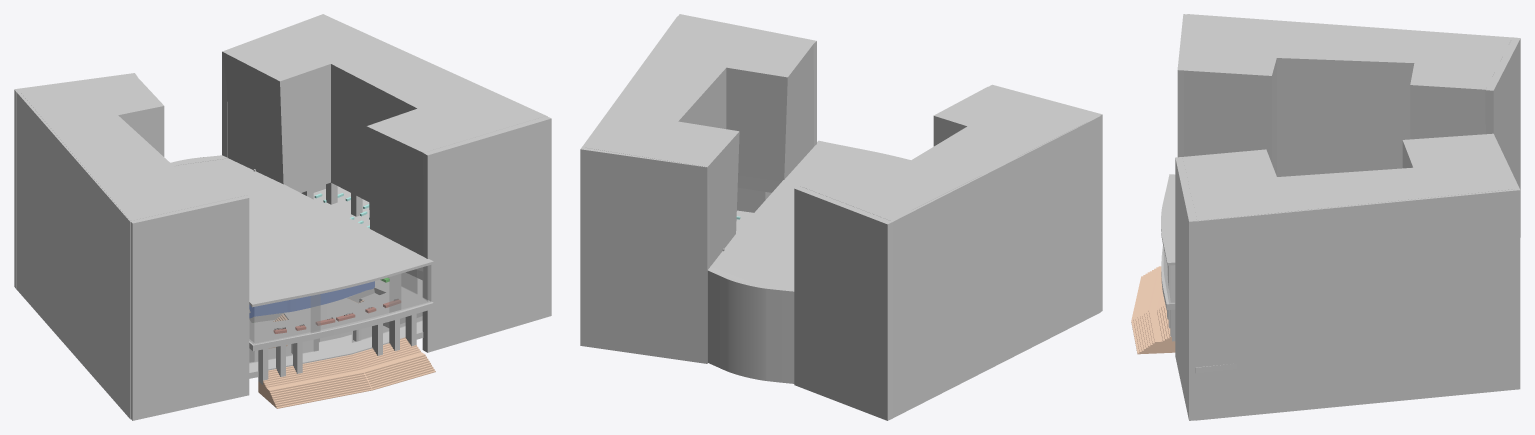
The model's file is researchcentermodelv5.glb.
3 renders of one model, left to right at view 1: azimuth 30°, elevation 25°; view 2: azimuth 150°, elevation 25°; view 3: azimuth 270°, elevation 25°, orthographic.
Parts seen in each view (by area): view 1: floor__outside__building_r_main, floor__outside__building_r_front_wall, floor__outside__building_r_front_wall.001, floor__outside__building_r_right_wall.001, floor__outside__building_r_main.001, floor__outside__top_ceiling, floor__outside__front_4f_glass, floor__4f__4f_base_base, floor__1f__stairs_1f, floor__1f__1f_base, floor__4f__room_r0_4f, floor__outside__building_r_back_wall.001 (+2 smaller); view 2: floor__outside__building_r_right_wall.001, floor__outside__building_r_main, floor__outside__building_r_back_wall, floor__outside__building_r_back_wall.001, floor__outside__building_r_main.001, floor__outside__back_wall, floor__outside__top_ceiling, floor__outside__building_r_front_wall.001, floor__outside__building_r_front_wall, floor__elevators__elevator_shaft_r; view 3: floor__outside__building_r_right_wall, floor__outside__building_r_main.001, floor__outside__building_r_main, floor__outside__building_r_front_wall, floor__outside__building_r_back_wall.001, floor__1f__stairs_1f, floor__outside__building_r_back_wall, floor__outside__top_ceiling, floor__outside__building_r_front_wall.001, floor__4f__4f_base_base, floor__outside__building_r_right_wall.001, floor__outside__front_4f_glass.
Boxes of the visible parts, left/top/right/bottom form: floor__outside__building_r_main: left=222, top=16, right=545, bottom=271; floor__outside__building_r_front_wall: left=422, top=116, right=551, bottom=352; floor__outside__building_r_front_wall.001: left=130, top=195, right=249, bottom=420; floor__outside__building_r_right_wall.001: left=17, top=92, right=130, bottom=419; floor__outside__building_r_main.001: left=20, top=76, right=250, bottom=312; floor__outside__top_ceiling: left=174, top=158, right=433, bottom=307; floor__outside__front_4f_glass: left=249, top=265, right=430, bottom=344; floor__4f__4f_base_base: left=249, top=186, right=433, bottom=351; floor__1f__stairs_1f: left=258, top=337, right=435, bottom=408; floor__1f__1f_base: left=249, top=316, right=423, bottom=378; floor__4f__room_r0_4f: left=249, top=281, right=374, bottom=318; floor__outside__building_r_back_wall.001: left=14, top=73, right=137, bottom=289; floor__outside__building_r_right_wall.001: left=891, top=116, right=1100, bottom=417; floor__outside__building_r_main: left=585, top=17, right=813, bottom=266; floor__outside__building_r_back_wall: left=580, top=146, right=709, bottom=363; floor__outside__building_r_back_wall.001: left=794, top=186, right=893, bottom=420; floor__outside__building_r_main.001: left=800, top=86, right=1098, bottom=220; floor__outside__back_wall: left=707, top=266, right=794, bottom=383; floor__outside__top_ceiling: left=711, top=140, right=910, bottom=287; floor__outside__building_r_front_wall.001: left=989, top=84, right=1102, bottom=311; floor__outside__building_r_front_wall: left=677, top=14, right=816, bottom=146; floor__elevators__elevator_shaft_r: left=737, top=187, right=771, bottom=212; floor__outside__building_r_right_wall: left=1195, top=189, right=1512, bottom=420; floor__outside__building_r_main.001: left=1184, top=14, right=1511, bottom=176; floor__outside__building_r_main: left=1182, top=133, right=1514, bottom=220; floor__outside__building_r_front_wall: left=1175, top=157, right=1196, bottom=420; floor__outside__building_r_back_wall.001: left=1485, top=37, right=1520, bottom=237; floor__1f__stairs_1f: left=1131, top=266, right=1175, bottom=354; floor__outside__building_r_back_wall: left=1493, top=134, right=1520, bottom=389; floor__outside__top_ceiling: left=1161, top=174, right=1175, bottom=265; floor__outside__building_r_front_wall.001: left=1177, top=14, right=1189, bottom=157; floor__4f__4f_base_base: left=1161, top=245, right=1237, bottom=373; floor__outside__building_r_right_wall.001: left=1187, top=14, right=1512, bottom=38; floor__outside__front_4f_glass: left=1164, top=251, right=1174, bottom=303.
Size of the model in its own units: 116 by 52.8 by 92.15.
